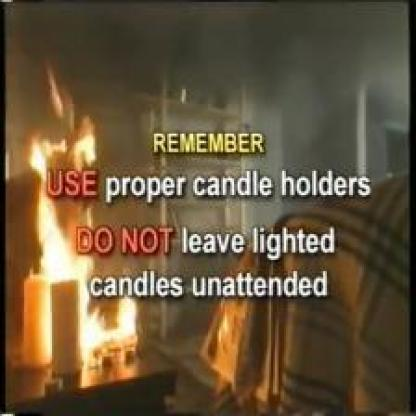fire: (14, 71, 137, 363)
